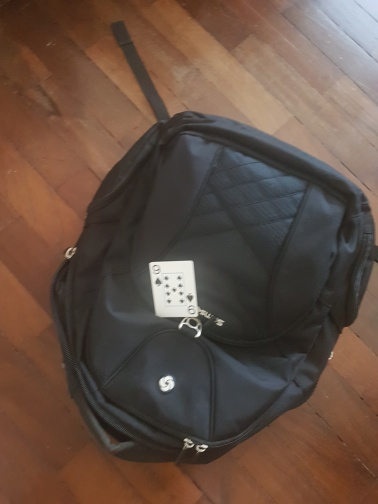nine: (150, 259, 199, 318)
